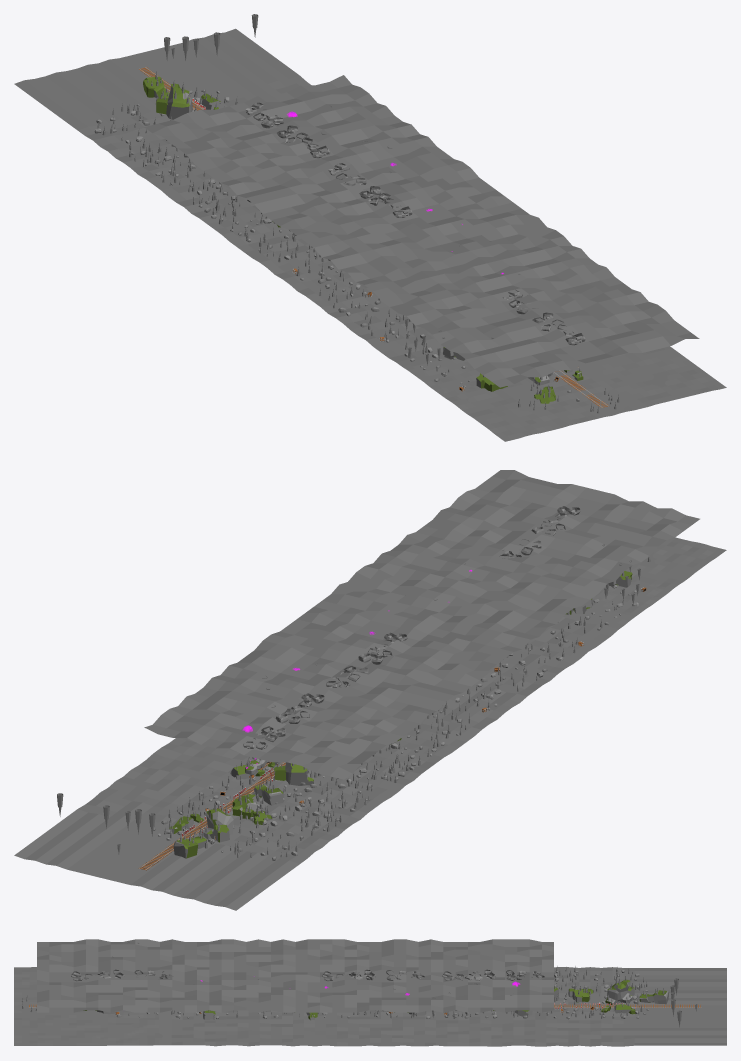
Rendered from MenuBack.fbx.
3 renders of one model, top to bottom at view 1: azimuth 30°, elevation 25°; view 2: azimuth 150°, elevation 25°; view 3: azimuth 270°, elevation 25°, orthographic. The views are drawn at different scales.
Visible parts, largest first — view 1: Ground.001, Ground, Mountain, Stalagnite, Rocks; view 2: Ground.001, Ground, Mountain, Stalagnite, Rocks, roud.001; view 3: Ground.001, Ground, Mountain, Stalagnite, Rocks, roud.001.
Part boxes in pixels (box(x1,y1,x2,y2)): Ground.001: box(144, 75, 699, 387); Ground: box(14, 28, 726, 441); Mountain: box(143, 71, 585, 403); Stalagnite: box(97, 87, 619, 413); Rocks: box(94, 89, 579, 401); Ground.001: box(144, 470, 699, 779); Ground: box(14, 537, 726, 910); Mountain: box(169, 506, 632, 858); Stalagnite: box(164, 556, 650, 857); Rocks: box(153, 585, 639, 860); roud.001: box(138, 762, 285, 870); Ground.001: box(37, 939, 553, 1012); Ground: box(14, 967, 726, 1046); Mountain: box(71, 969, 669, 1020); Stalagnite: box(22, 966, 647, 1018); Rocks: box(116, 969, 648, 1019); roud.001: box(29, 1004, 701, 1007).
Size of the model in its own units: 20193 by 5018 by 76619.
